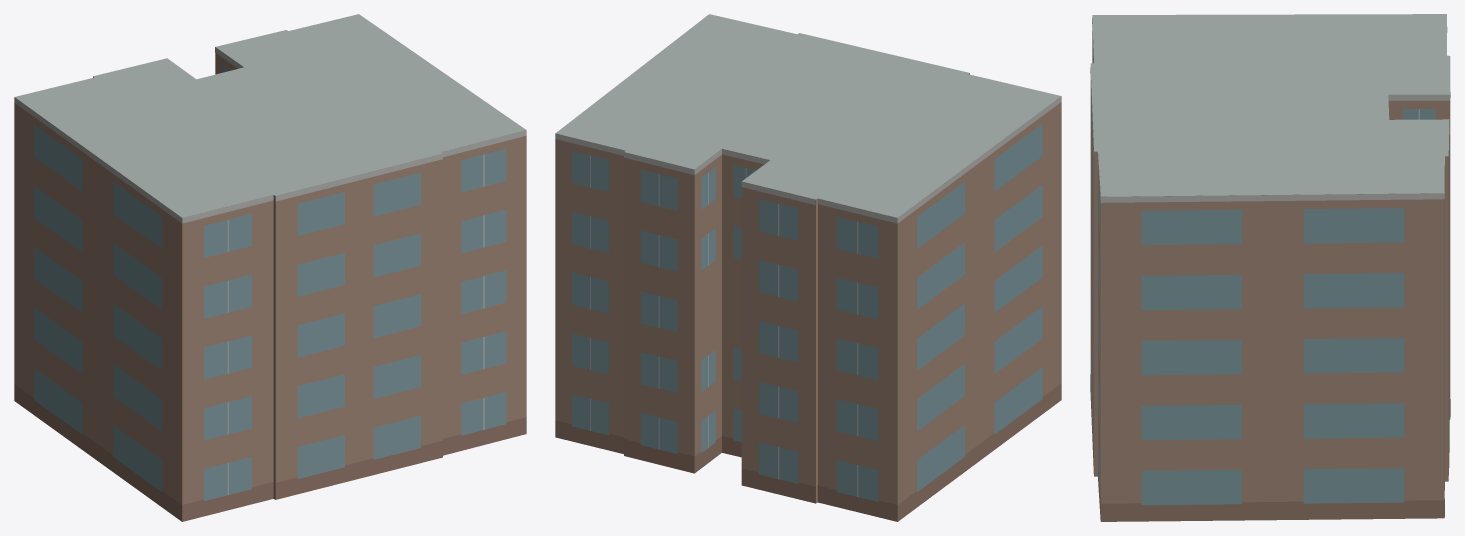
Rendered from survey-upis-33013862.glb.
The picture shows the model from 3 angles, left to right: view 1: azimuth 30°, elevation 25°; view 2: azimuth 150°, elevation 25°; view 3: azimuth 270°, elevation 25°; orthographic projection. The views are drawn at different scales.
Visible parts, largest first — view 1: survey-upis-33013862.tmp; view 2: survey-upis-33013862.tmp; view 3: survey-upis-33013862.tmp.
Boxes of the visible parts, x1,y1,x2,y2 form: survey-upis-33013862.tmp: [14, 14, 526, 521]; survey-upis-33013862.tmp: [555, 14, 1061, 521]; survey-upis-33013862.tmp: [1090, 14, 1450, 521].
Bounding box in the file's own units: 15.8 × 13.1 × 13.16.
